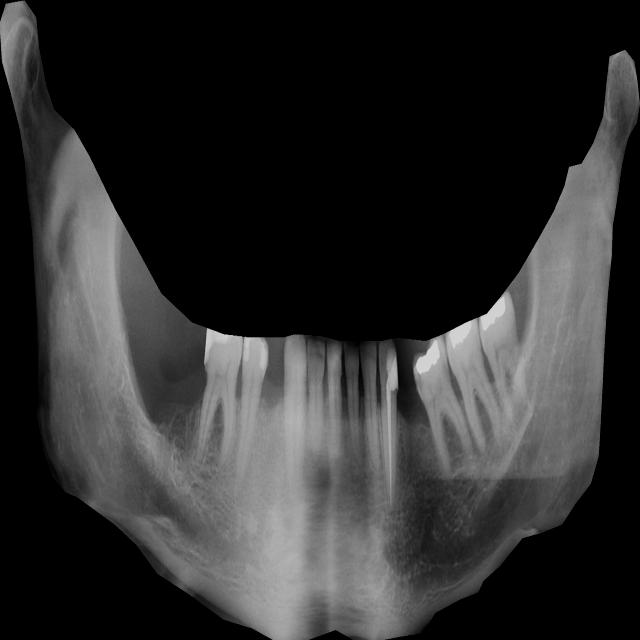mandibula: (0, 0, 640, 640)
